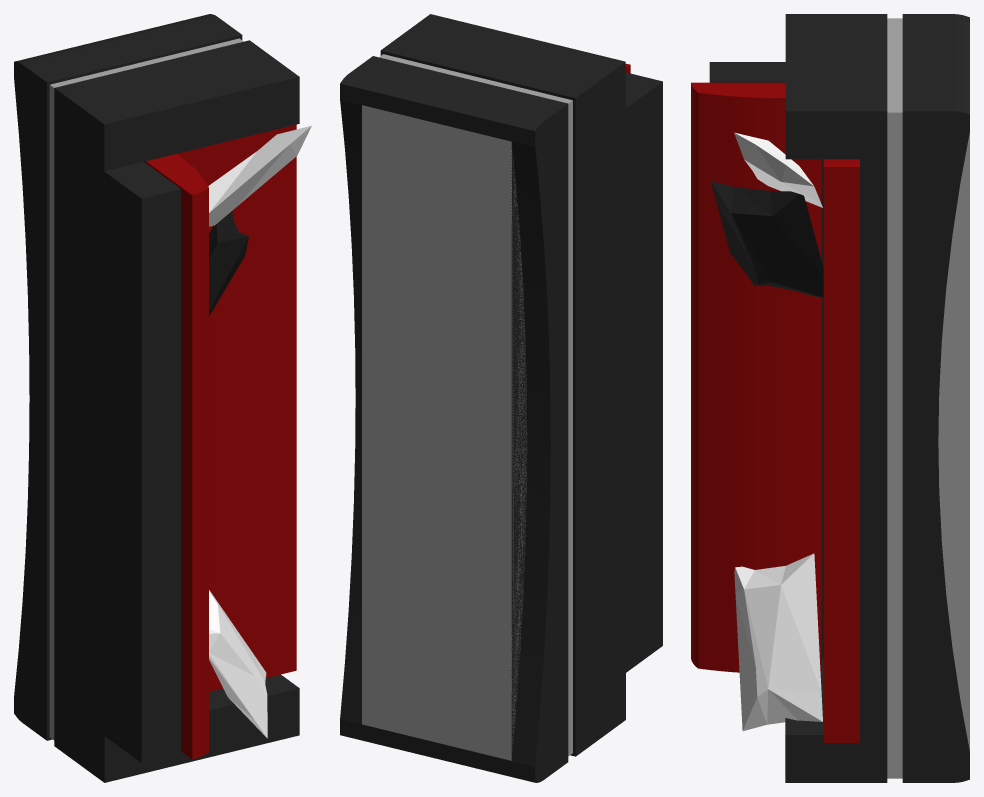
3 renders of one model, left to right at view 1: azimuth 30°, elevation 25°; view 2: azimuth 150°, elevation 25°; view 3: azimuth 270°, elevation 25°, orthographic. The views are drawn at different scales.
Parts seen in each view (by area): view 1: couch; view 2: couch; view 3: couch.
Boxes of the visible parts, x1,y1,x2,y2 form: couch: (14, 14, 311, 782); couch: (340, 14, 662, 782); couch: (691, 14, 969, 782).
Bounding box in the file's own units: 38.24 × 114 × 42.93.
